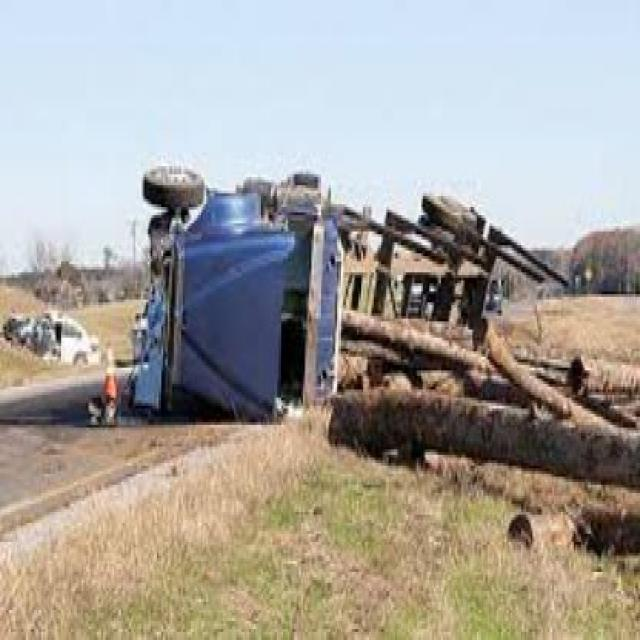accident: (84, 147, 518, 444)
